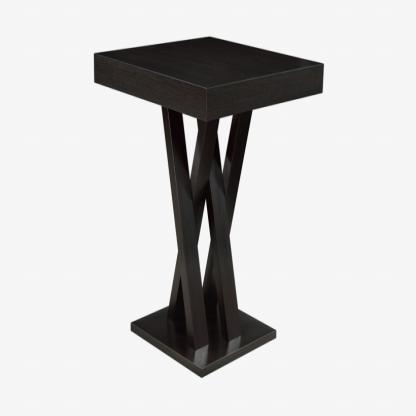table: (92, 36, 325, 378)
